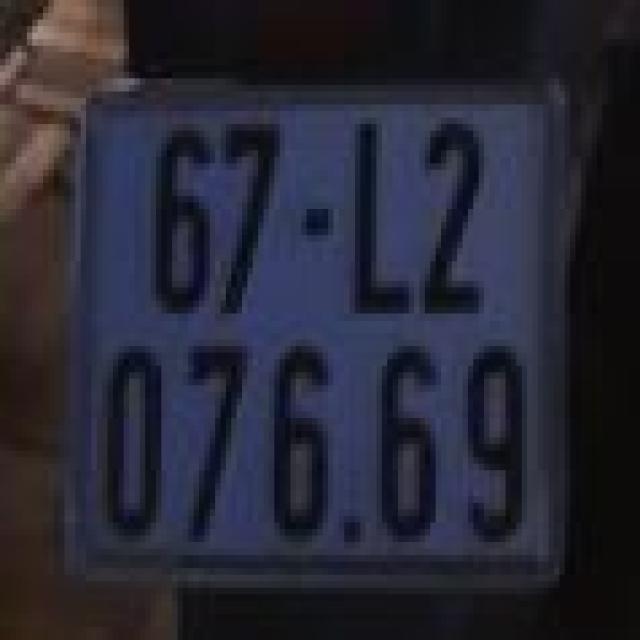0: (97, 340, 172, 542)
2: (422, 118, 492, 320)
6: (366, 333, 446, 555), (266, 330, 336, 545), (145, 124, 221, 320)
7: (180, 330, 261, 545), (215, 114, 291, 323)
9: (454, 336, 540, 552)
L: (339, 108, 419, 323)
